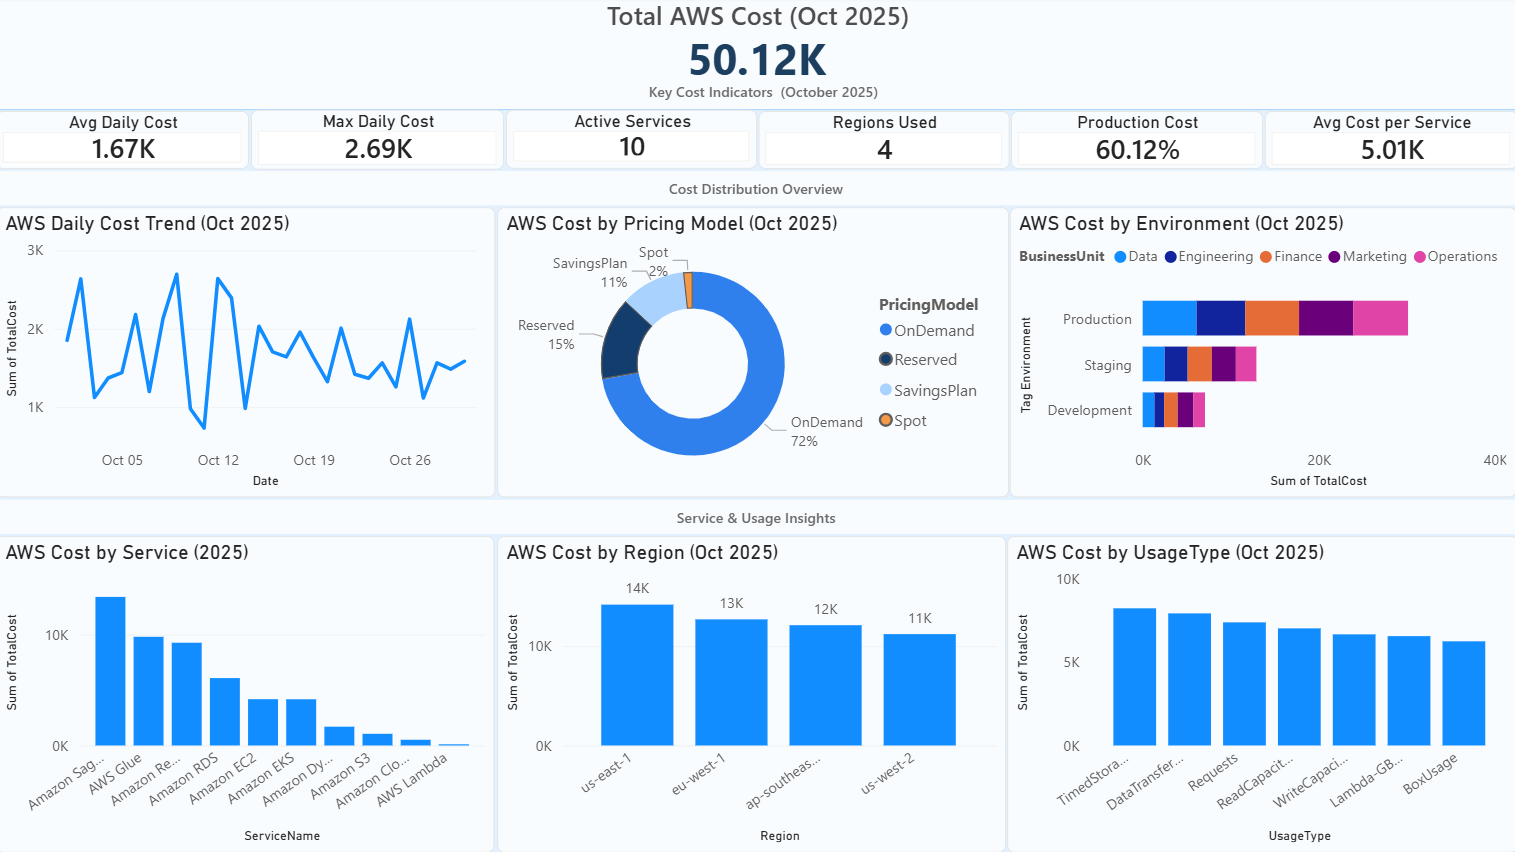

The page's visual inventory and layout, read from the dashboard file:
{"tool":"powerbi","page":{"name":"Overview","canvas":[1280,720],"ordinal":0},"visuals":[{"type":"card","title":"Total AWS Cost (Oct 2025)","fields":{"Values":["aws_billing_daily_oct2025.Total AWS Cost"]},"box":[0,0,1280,87],"z":0},{"type":"clusteredColumnChart","title":"AWS Cost by Service (2025)","fields":{"Category":["aws_billing_daily_oct2025.ServiceName"],"Y":["Sum(aws_billing_daily_oct2025.TotalCost)"]},"box":[0,454.4,419,266],"z":1000},{"type":"clusteredColumnChart","title":"AWS Cost by Region (Oct 2025)","fields":{"Category":["aws_billing_daily_oct2025.Region"],"Y":["Sum(aws_billing_daily_oct2025.TotalCost)"]},"box":[421.3,454.4,428,266],"z":2000},{"type":"donutChart","title":"AWS Cost by Pricing Model (Oct 2025)","fields":{"Category":["aws_billing_daily_oct2025.PricingModel"],"Y":["Sum(aws_billing_daily_oct2025.TotalCost)"]},"box":[418,177,438,244],"z":3000},{"type":"barChart","title":"AWS Cost by Environment (Oct 2025)","fields":{"Category":["aws_billing_daily_oct2025.Tag_Environment"],"Y":["Sum(aws_billing_daily_oct2025.TotalCost)"],"Series":["aws_billing_daily_oct2025.BusinessUnit"]},"box":[859,177,421,244],"z":4000},{"type":"lineChart","title":"AWS Daily Cost Trend (Oct 2025)","fields":{"Y":["Sum(aws_billing_daily_oct2025.TotalCost)"],"Category":["aws_billing_daily_oct2025.Date"]},"box":[0,178,416,243],"z":5000},{"type":"clusteredColumnChart","title":"AWS Cost by UsageType (Oct 2025)","fields":{"Category":["aws_billing_daily_oct2025.UsageType"],"Y":["Sum(aws_billing_daily_oct2025.TotalCost)"]},"box":[851.1,454.2,429.5,266],"z":6000},{"type":"cardVisual","title":"Max Daily Cost","fields":{"Data":["select","aws_billing_daily_oct2025.Max Daily Cost","select1"]},"box":[216,90,216,56],"z":7000},{"type":"textbox","box":[523,66,232,24],"z":8000},{"type":"textbox","box":[0,423.5,1278.9,29],"z":9000},{"type":"cardVisual","title":"Active Services","fields":{"Data":["select","select1","aws_billing_daily_oct2025.Active Services"]},"box":[432,90,208,56],"z":10000},{"type":"cardVisual","title":"Regions Used","fields":{"Data":["select","select1","aws_billing_daily_oct2025.Active Regions"]},"box":[640,90,216,56],"z":11000},{"type":"cardVisual","title":"Production Cost","fields":{"Data":["select","select1","aws_billing_daily_oct2025.Production Cost %"]},"box":[856,90,208,56],"z":12000},{"type":"cardVisual","title":"Avg Cost per Service","fields":{"Data":["select","select1","aws_billing_daily_oct2025.Avg Cost per Service"]},"box":[1064,90,216,56],"z":13000},{"type":"textbox","box":[0,146.9,1278.5,28.5],"z":14000},{"type":"cardVisual","title":"Max Daily Cost","fields":{"Data":["select","select1","aws_billing_daily_oct2025.Avg Daily Cost"]},"box":[0,90,216,56],"z":15000}]}

Visuals, with their boxes in screenshot pixels (x1, y1, x2, y2), scaled from the page's 1280x720 canvas onto the 1515x852 screenshot:
"Total AWS Cost (Oct 2025)" card: pyautogui.locateOnScreen(0, 0, 1514, 103)
"AWS Cost by Service (2025)" clusteredColumnChart: pyautogui.locateOnScreen(0, 538, 496, 851)
"AWS Cost by Region (Oct 2025)" clusteredColumnChart: pyautogui.locateOnScreen(499, 538, 1005, 851)
"AWS Cost by Pricing Model (Oct 2025)" donutChart: pyautogui.locateOnScreen(495, 209, 1013, 498)
"AWS Cost by Environment (Oct 2025)" barChart: pyautogui.locateOnScreen(1017, 209, 1514, 498)
"AWS Daily Cost Trend (Oct 2025)" lineChart: pyautogui.locateOnScreen(0, 211, 492, 498)
"AWS Cost by UsageType (Oct 2025)" clusteredColumnChart: pyautogui.locateOnScreen(1007, 537, 1514, 851)
"Max Daily Cost" cardVisual: pyautogui.locateOnScreen(256, 106, 511, 173)
textbox: pyautogui.locateOnScreen(619, 78, 894, 106)
textbox: pyautogui.locateOnScreen(0, 501, 1514, 535)
"Active Services" cardVisual: pyautogui.locateOnScreen(511, 106, 758, 173)
"Regions Used" cardVisual: pyautogui.locateOnScreen(758, 106, 1013, 173)
"Production Cost" cardVisual: pyautogui.locateOnScreen(1013, 106, 1259, 173)
"Avg Cost per Service" cardVisual: pyautogui.locateOnScreen(1259, 106, 1514, 173)
textbox: pyautogui.locateOnScreen(0, 174, 1513, 208)
"Max Daily Cost" cardVisual: pyautogui.locateOnScreen(0, 106, 256, 173)
